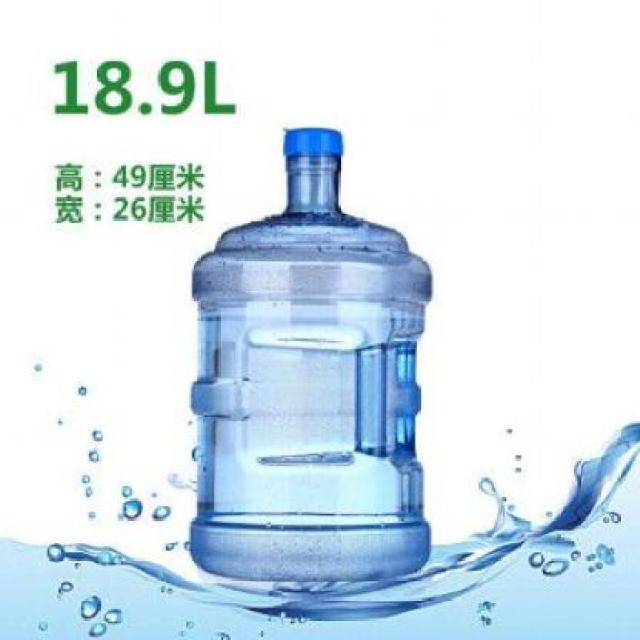coolerbottle: (183, 117, 439, 591)
